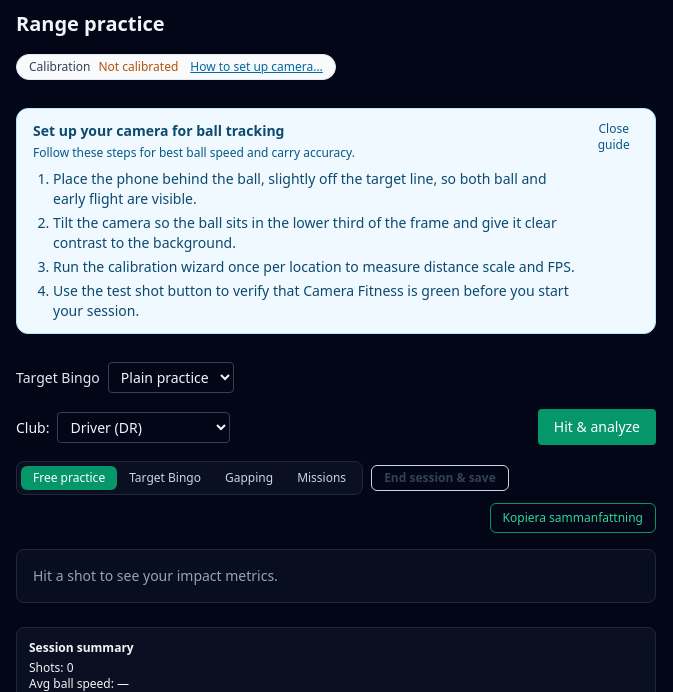
Test: Range practice ghost match mode › updates ghost stats as shots are registered
Select "GhostMatch" in the dropdown labelled "Target Bingo" at (171, 378), box [108, 362, 234, 393]
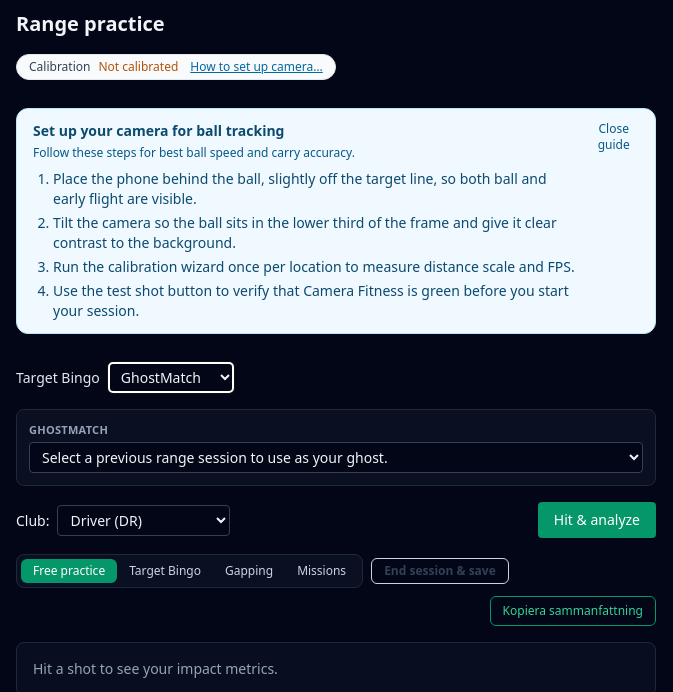
Select "2025-05-10 · Range · 2 shots" in the dropdown labelled "GhostMatch" at (336, 458), box [29, 442, 643, 473]
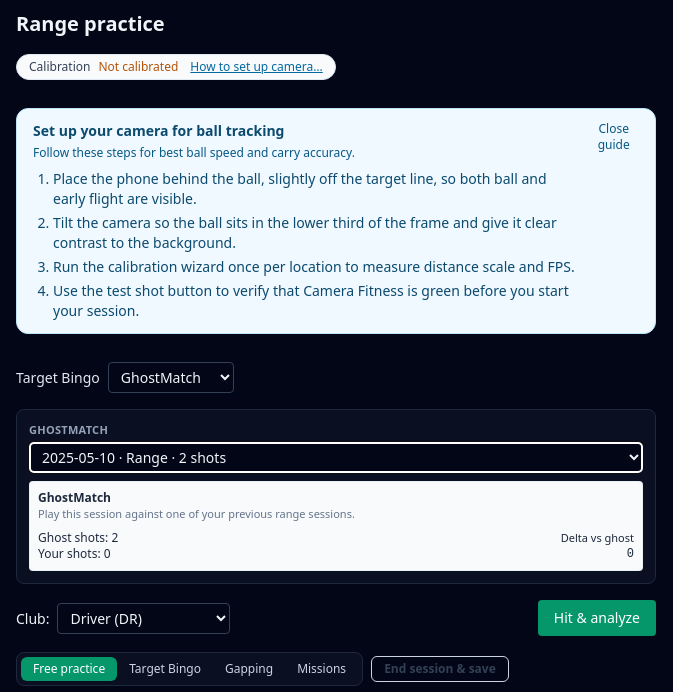
Click the button "Hit & analyze" at (597, 618), box [538, 600, 656, 636]
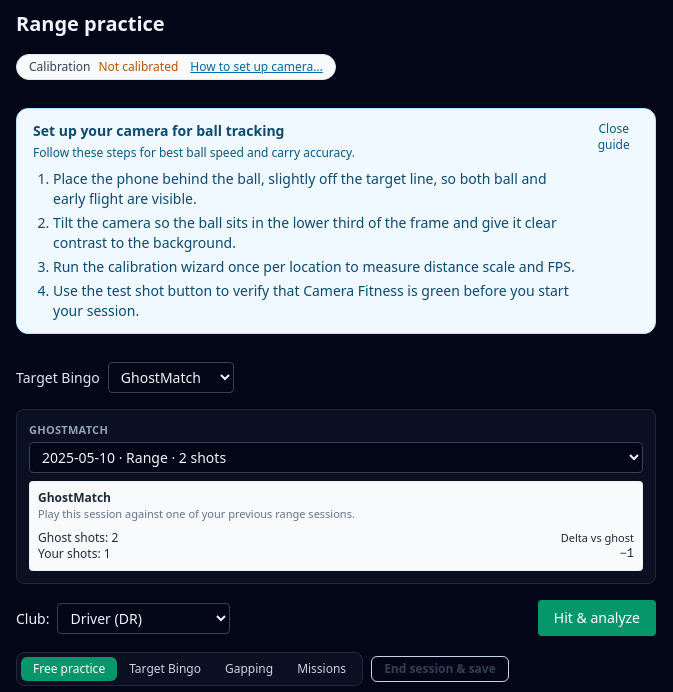
Now the text "Ghost shots: 2" is shown, box [38, 530, 118, 546]
Now the text "Your shots: 1" is shown, box [38, 546, 118, 562]
Now the text "−1" is shown, box [620, 547, 634, 561]
Click the button "Hit & analyze" at (597, 618), box [538, 600, 656, 636]
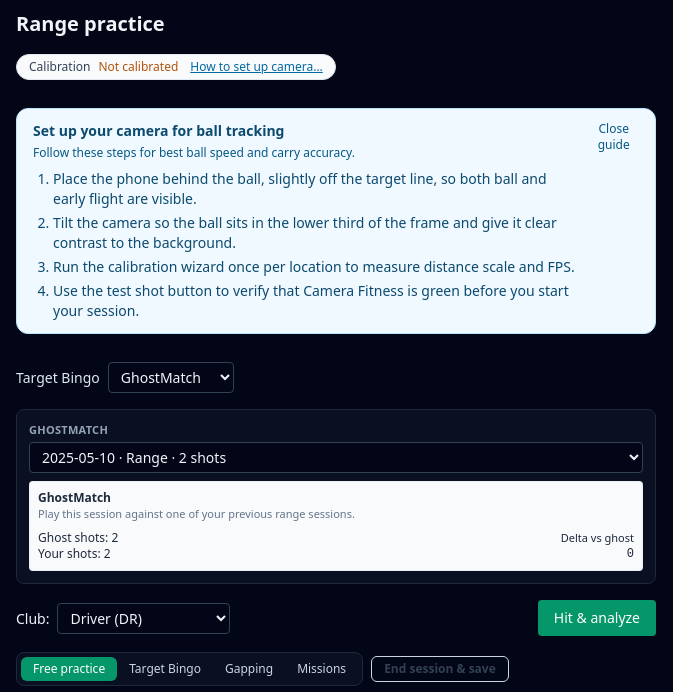
Now the text "Your shots: 2" is shown, box [38, 546, 118, 562]
Now the text "0" is shown, box [627, 547, 634, 561]
